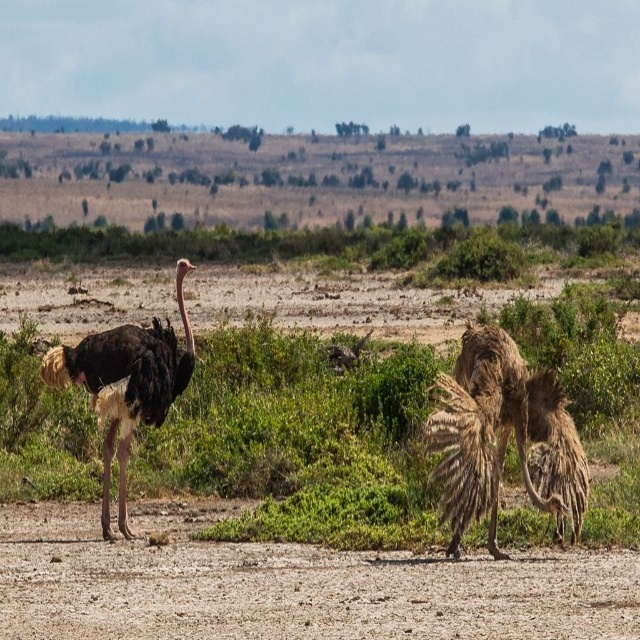Ostrich: (35, 253, 196, 547), (422, 321, 591, 557)
